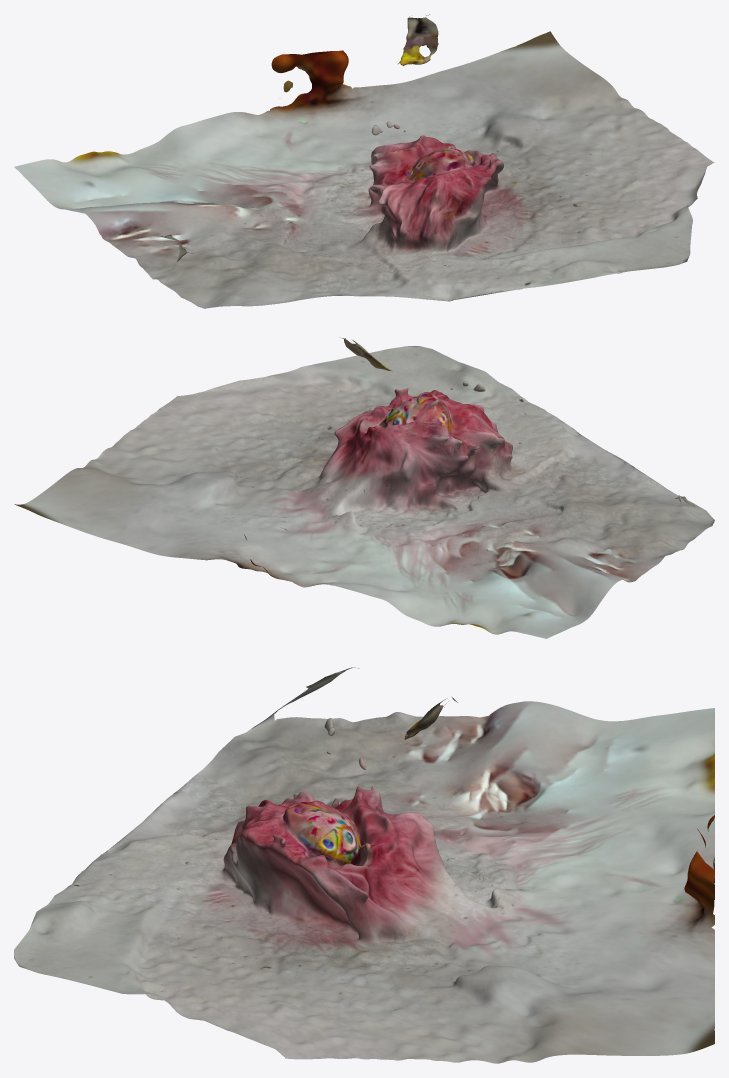
3 renders of one model, top to bottom at view 1: azimuth 30°, elevation 25°; view 2: azimuth 150°, elevation 25°; view 3: azimuth 270°, elevation 25°, orthographic. The views are drawn at different scales.
Size of the model in its own units: 3.32 by 0.9984 by 2.88.
Materials: 1 (1 with a texture image).
